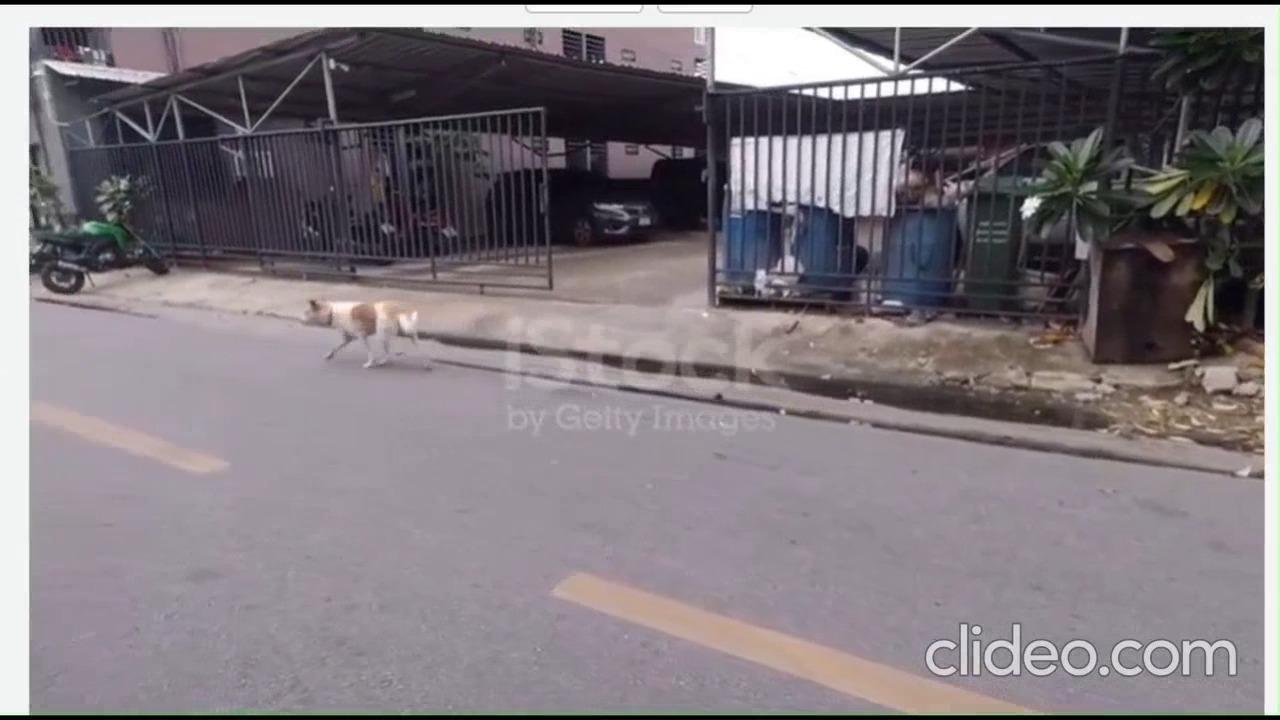dog: (283, 281, 432, 383)
